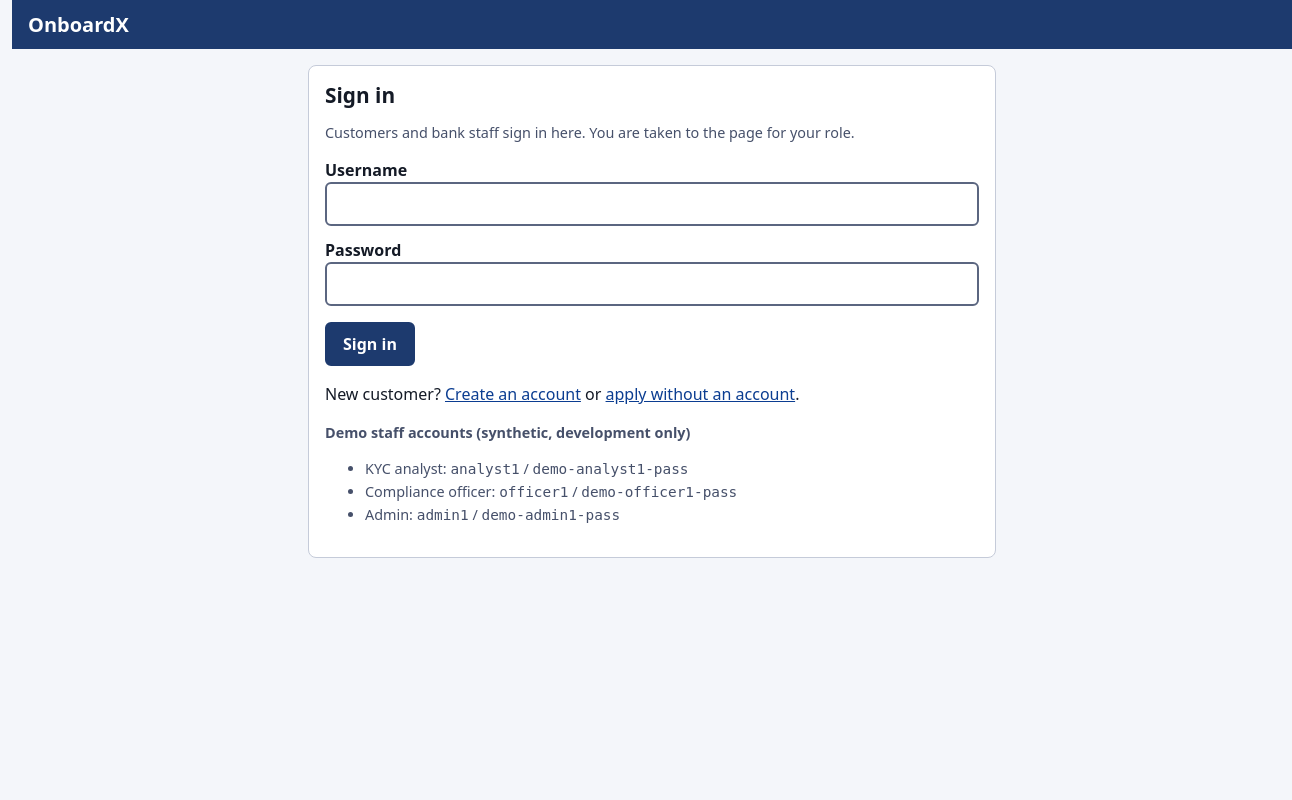
it: LoginPage redirects by role › AC-14.7: a prospect account without a case is sent to registration
Type "meera.nair" into the field labelled "Username". click: (652, 204)
box: [325,182,979,226]
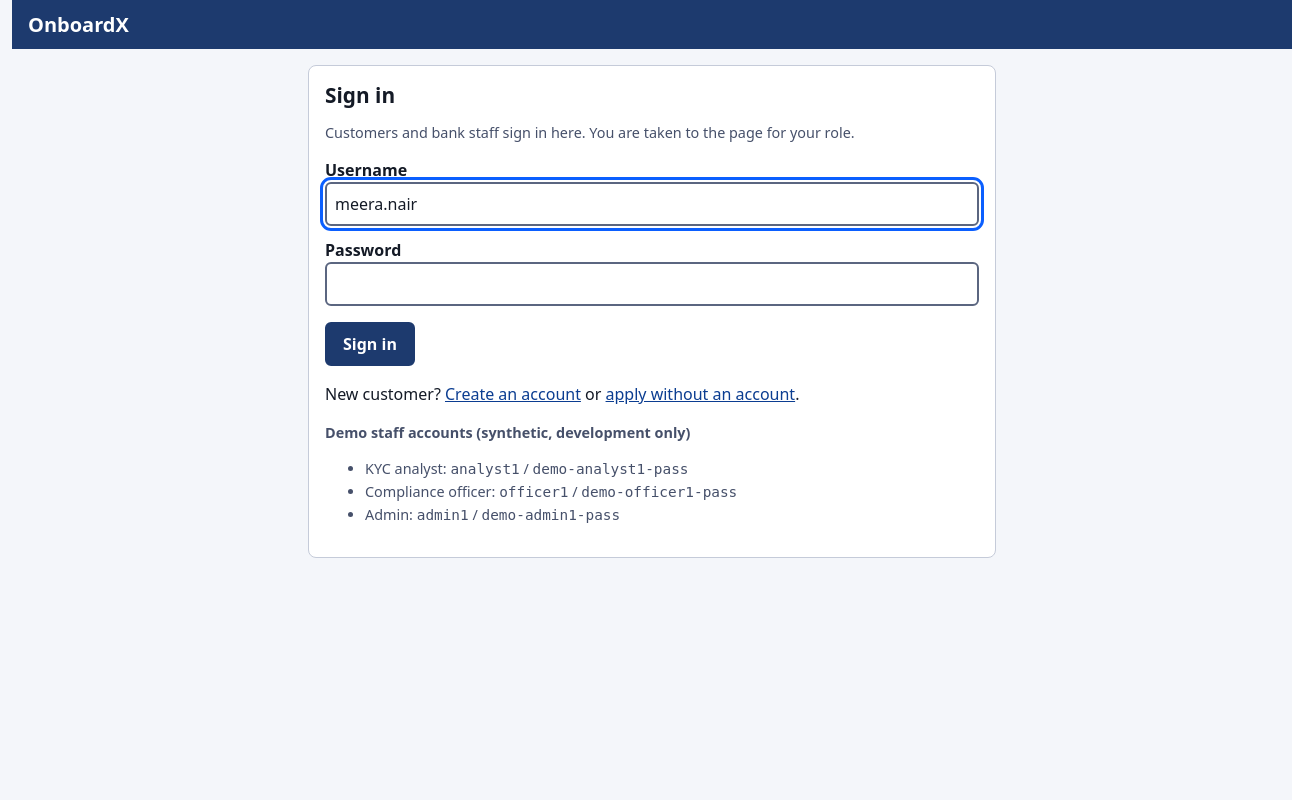
Type "synthetic-pass" into the password field labelled "Password". click: (652, 284)
box: [325,262,979,306]
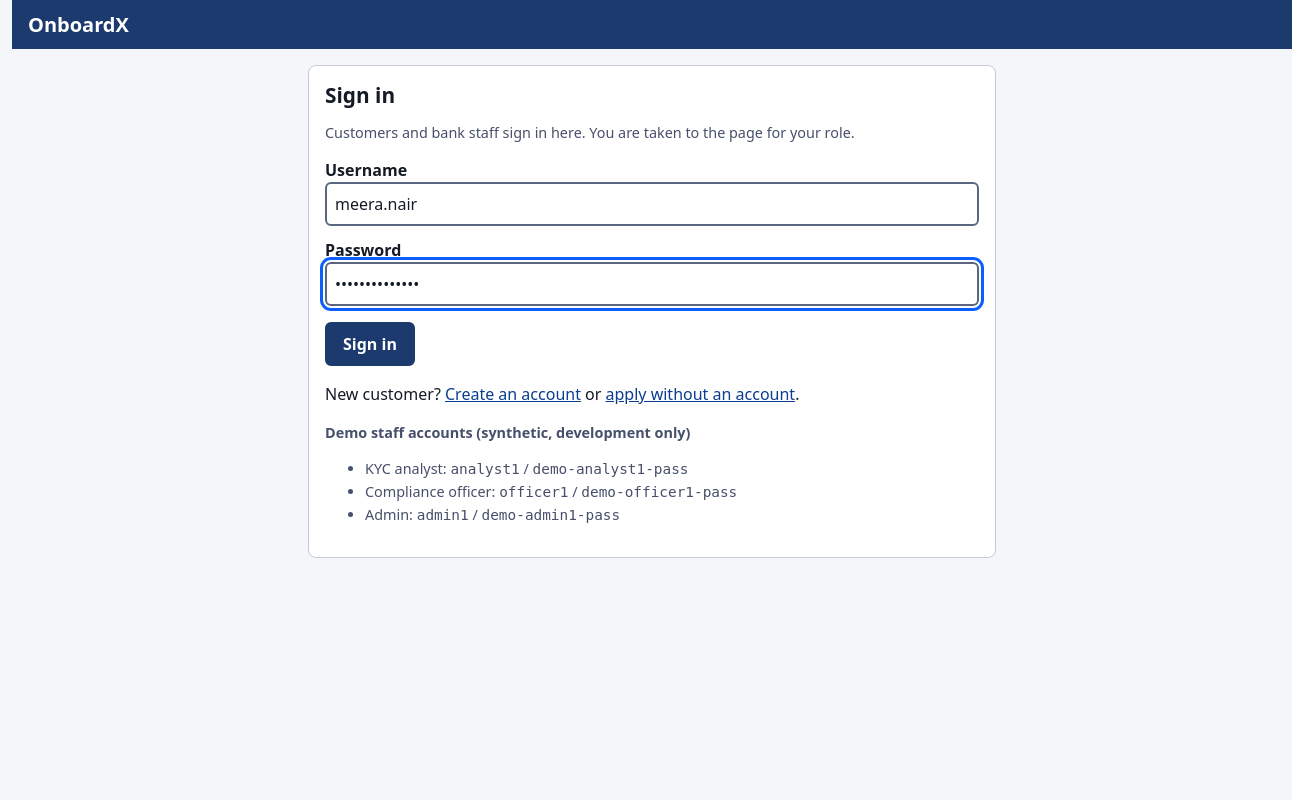
Click the button "Sign in". click: (370, 344)
box: [325,322,415,366]
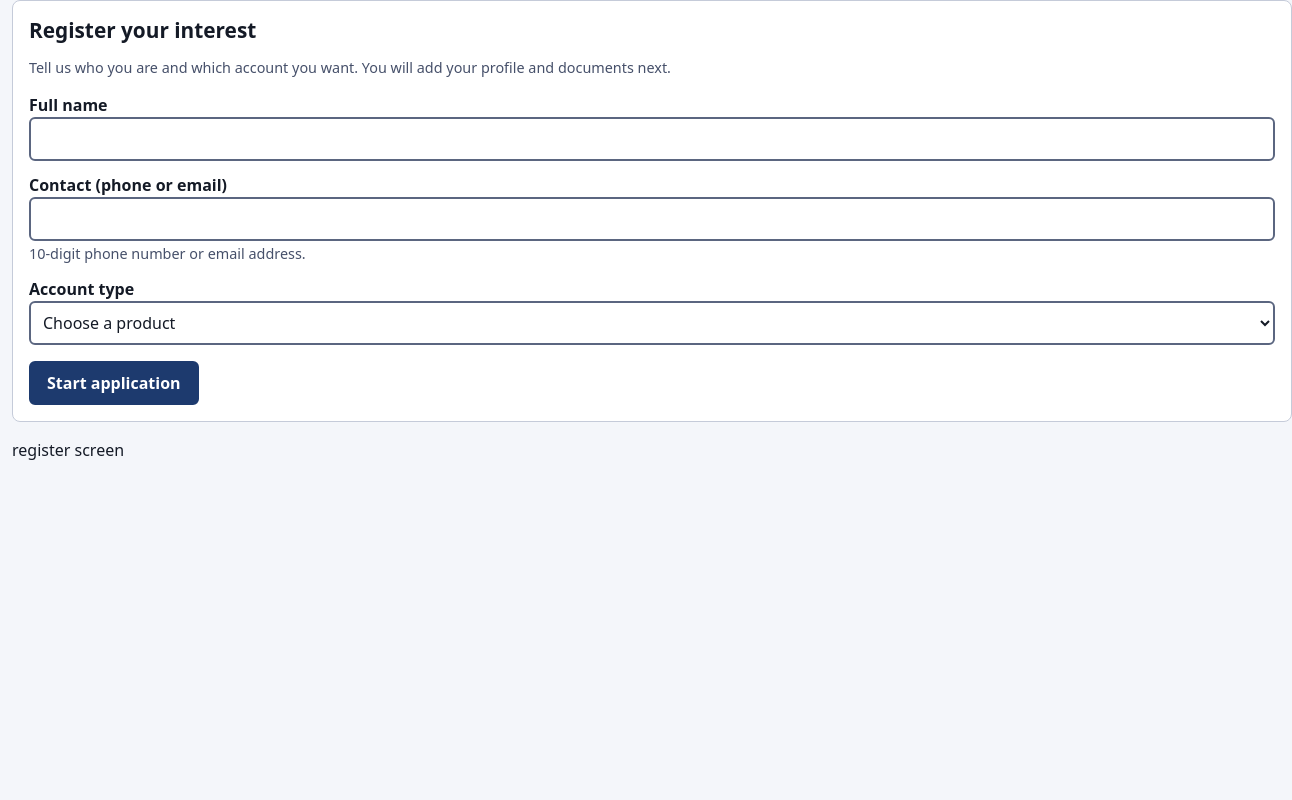
Now the text "register screen" is shown, box [12,439,124,461]
